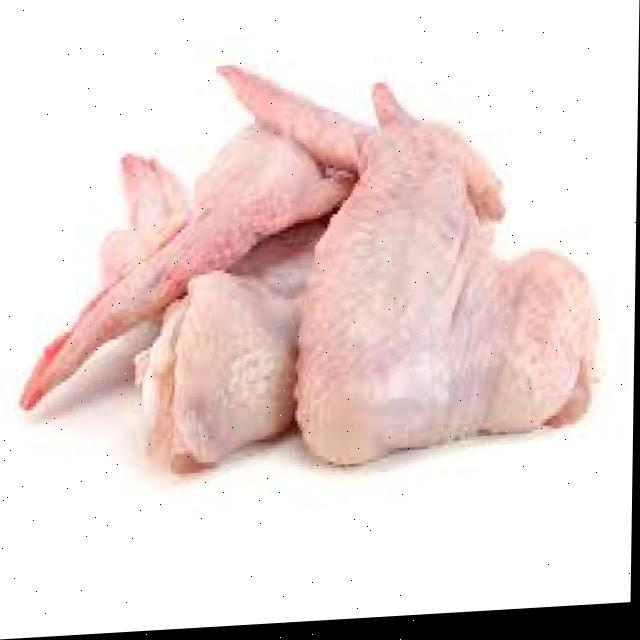wing: (219, 43, 609, 480), (20, 122, 345, 417), (112, 169, 298, 485)
